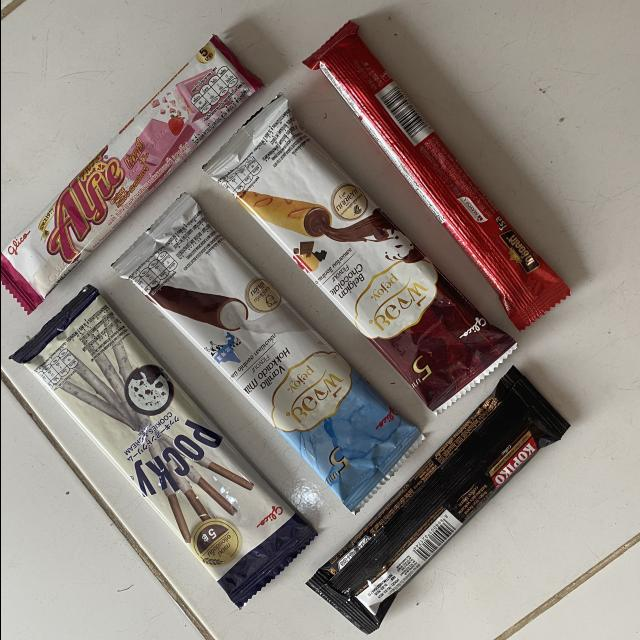plastik: (203, 97, 514, 413), (112, 195, 422, 512), (10, 285, 315, 607), (303, 22, 569, 330), (0, 35, 262, 311), (306, 367, 568, 633)
